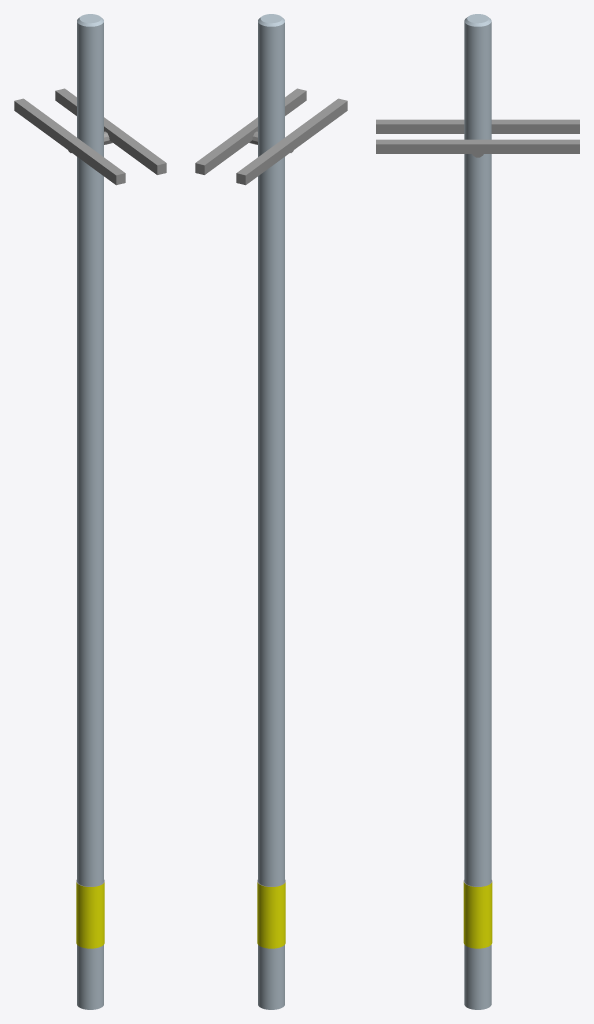
File: RoadTSign_Pole_4type.FBX
The picture shows the model from 3 angles, left to right: view 1: azimuth 30°, elevation 25°; view 2: azimuth 150°, elevation 25°; view 3: azimuth 270°, elevation 25°; orthographic projection.
Visible parts, largest first — view 1: roadtsign_pole_4type; view 2: roadtsign_pole_4type; view 3: roadtsign_pole_4type.
Boxes of the visible parts, bbox=[...] form: roadtsign_pole_4type: bbox=[14, 14, 166, 1009]; roadtsign_pole_4type: bbox=[195, 14, 347, 1009]; roadtsign_pole_4type: bbox=[376, 14, 579, 1009].
Size of the model in its own units: 43 by 800 by 150.
